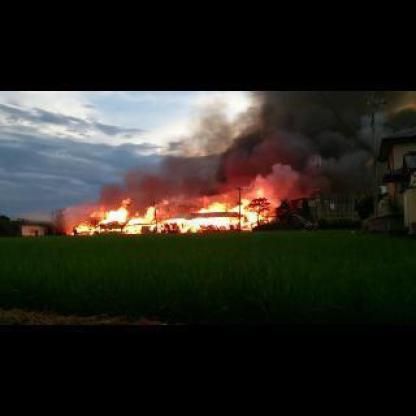fire: (61, 185, 278, 234)
